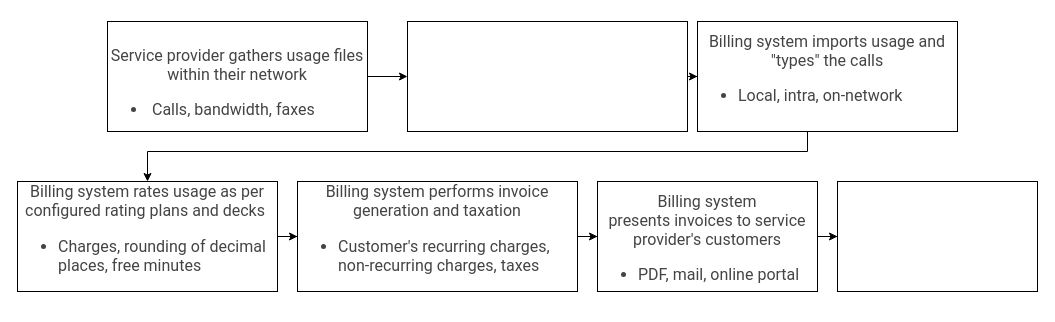
Some shapes in this 1055 by 322 pixel diagram are drawn without their labels. The shapes that lost their labels are listed below. From the top down, each one's centre as x and y in pixels, then its label:
(x=547, y=76): Service provider pushes usage to a secure FTP location At predefined intervals
(x=937, y=236): Billing system manages customer payment processing Customer payments
